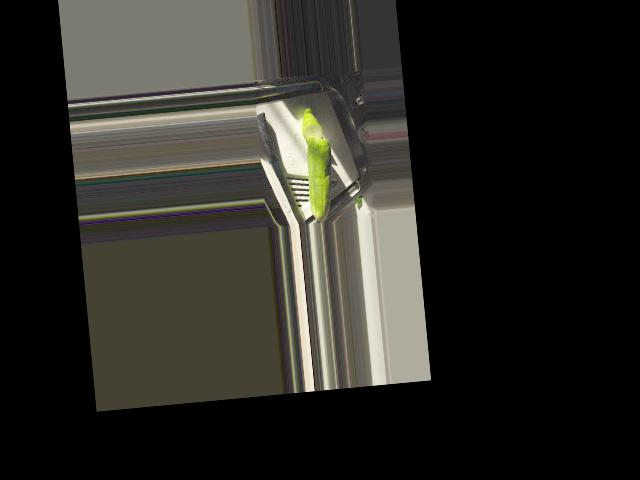cucumber: (303, 134, 336, 221)
